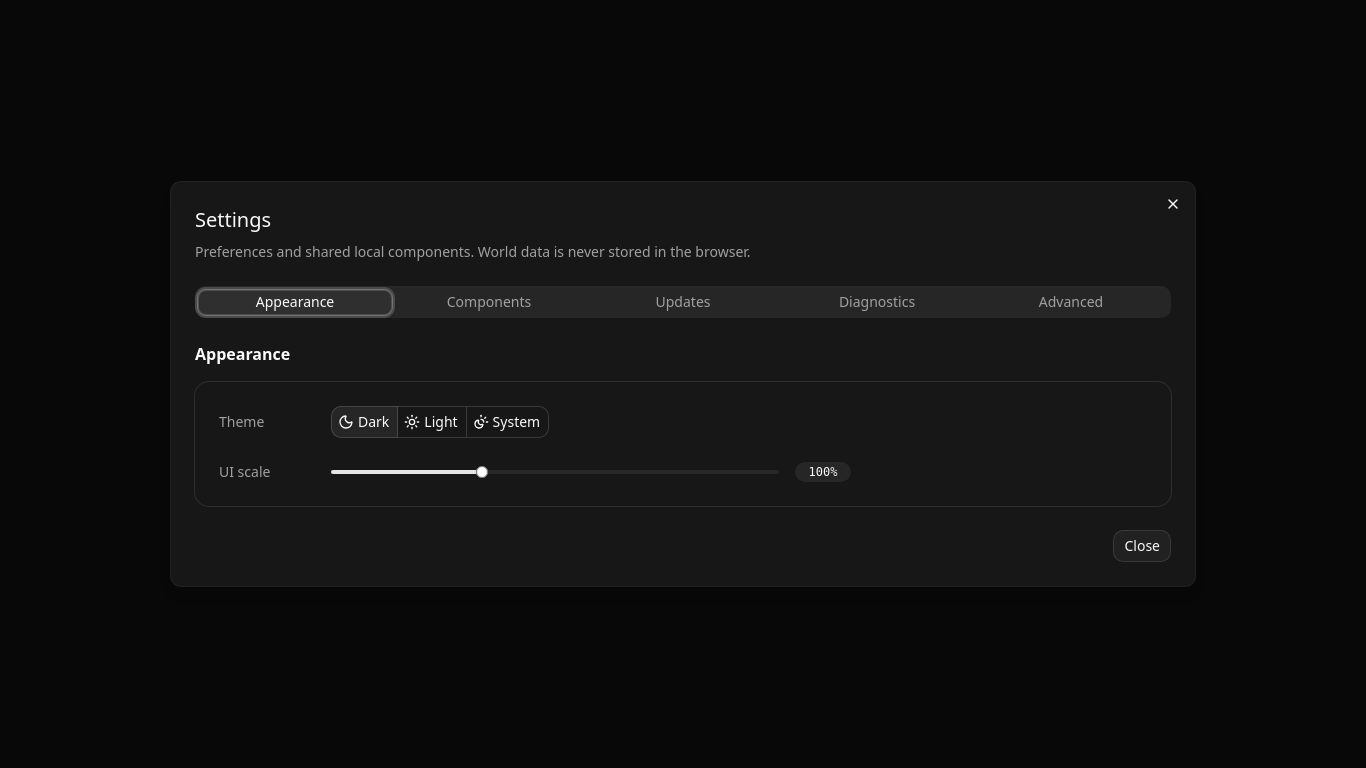
Test: settings dialog › splits settings into five sections and opens on appearance
Expected: the dialog is shown, top-left (171, 182), bottom-right (1195, 586)
Expected: the heading "Appearance" is shown, top-left (195, 343), bottom-right (290, 365)
Click the tab "Components" at {"x": 489, "y": 302}, box top-left (392, 290), bottom-right (586, 314)
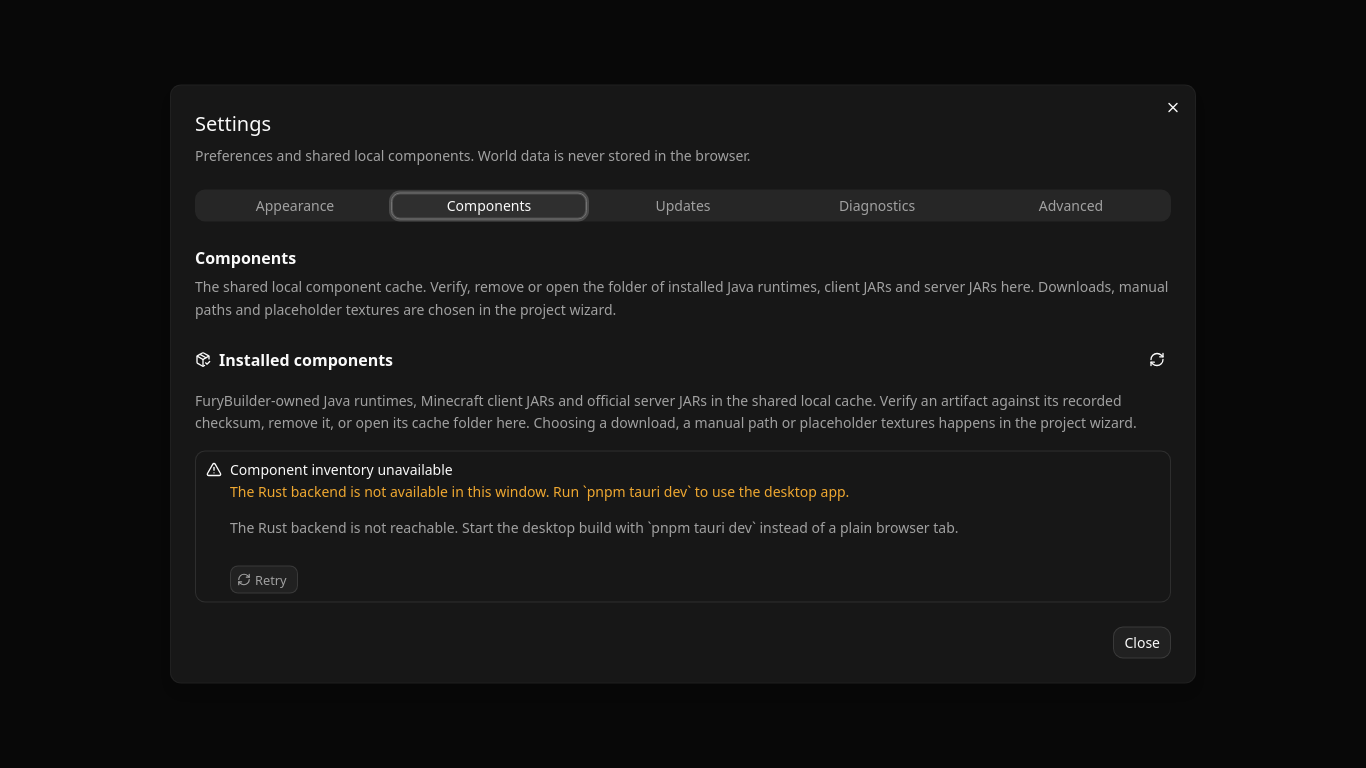
Expected: the heading "Components" is shown, top-left (195, 246), bottom-right (296, 268)
Expected: the heading "Installed components" is shown, top-left (195, 347), bottom-right (393, 371)
Click the tab "Updates" at {"x": 683, "y": 206}, box top-left (586, 193), bottom-right (780, 218)
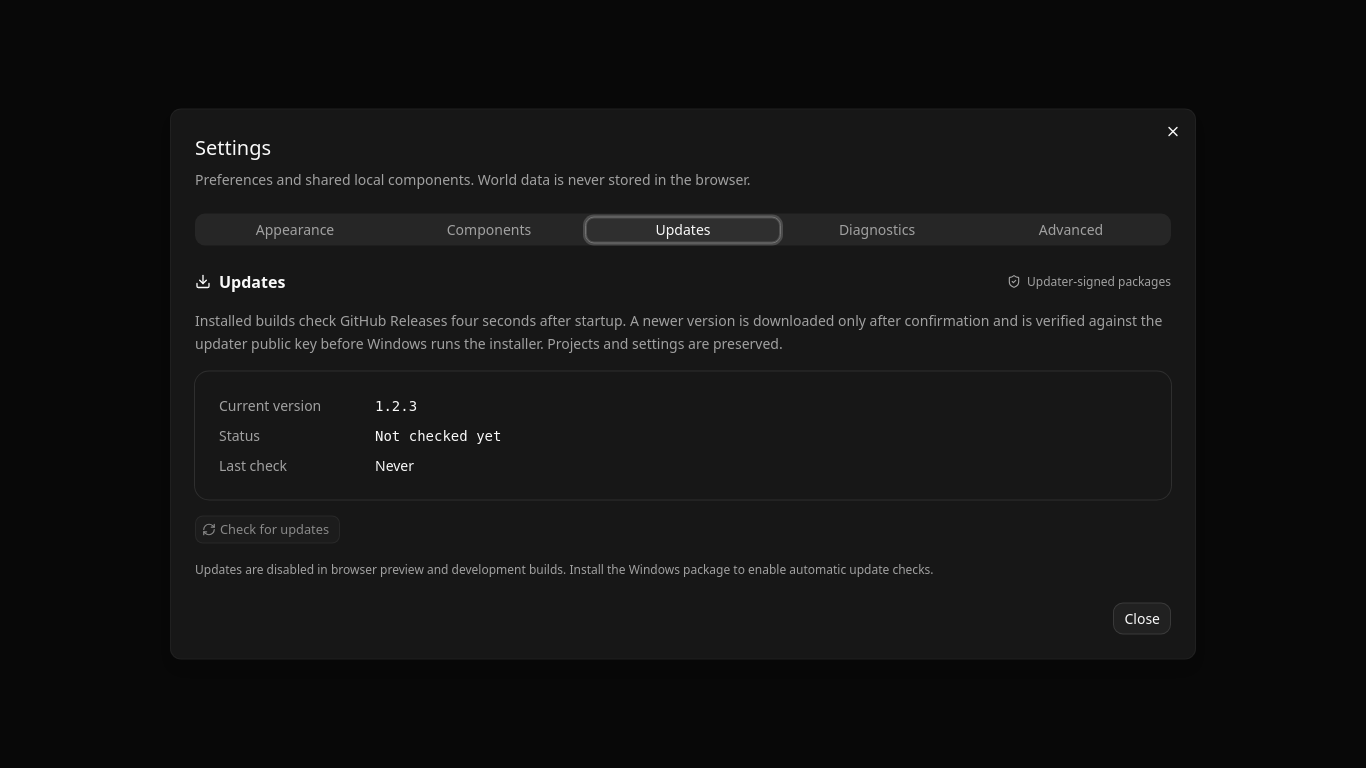
Expected: the heading "Updates" is shown, top-left (195, 270), bottom-right (285, 294)
Click the tab "Diagnostics" at {"x": 877, "y": 230}, box top-left (780, 217), bottom-right (974, 242)
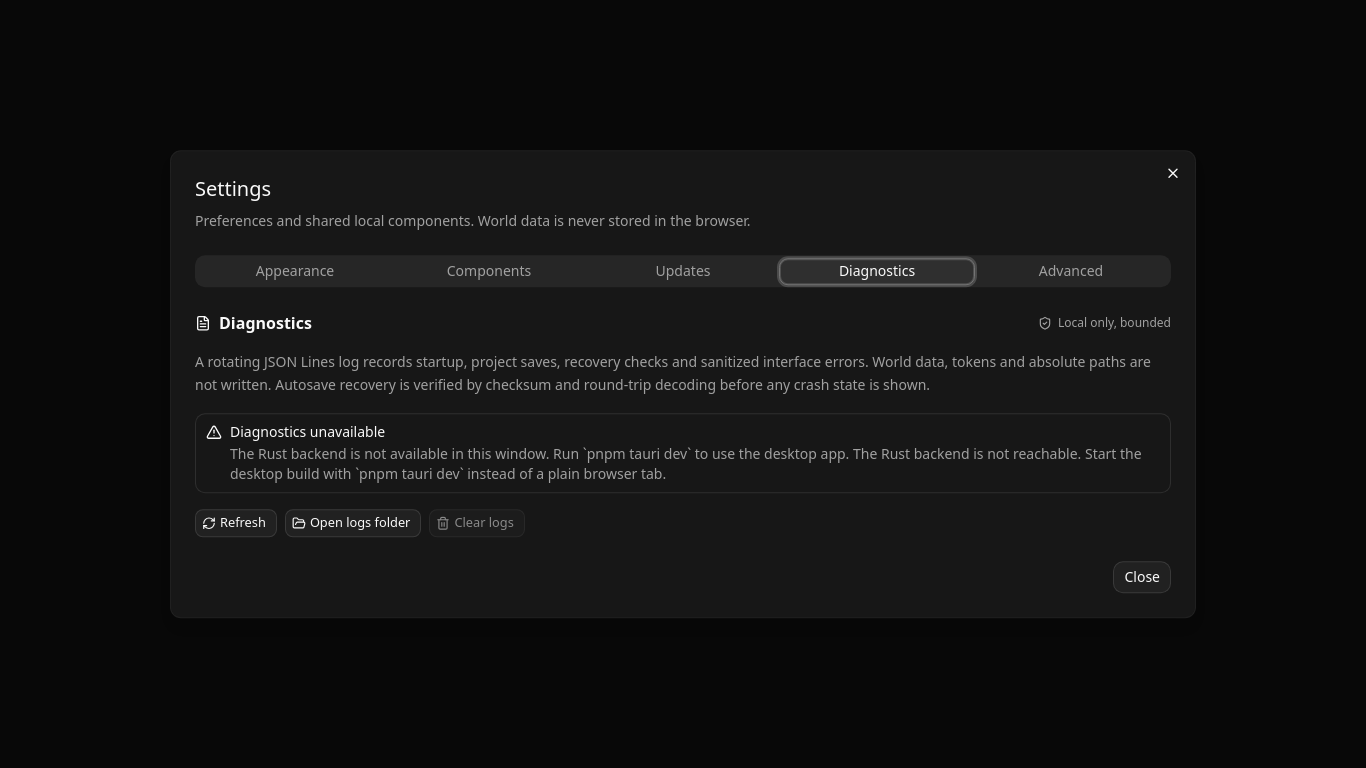
Expected: the heading "Diagnostics" is shown, top-left (195, 311), bottom-right (312, 335)
Click the tab "Advanced" at {"x": 1071, "y": 271}, box top-left (974, 259), bottom-right (1168, 284)
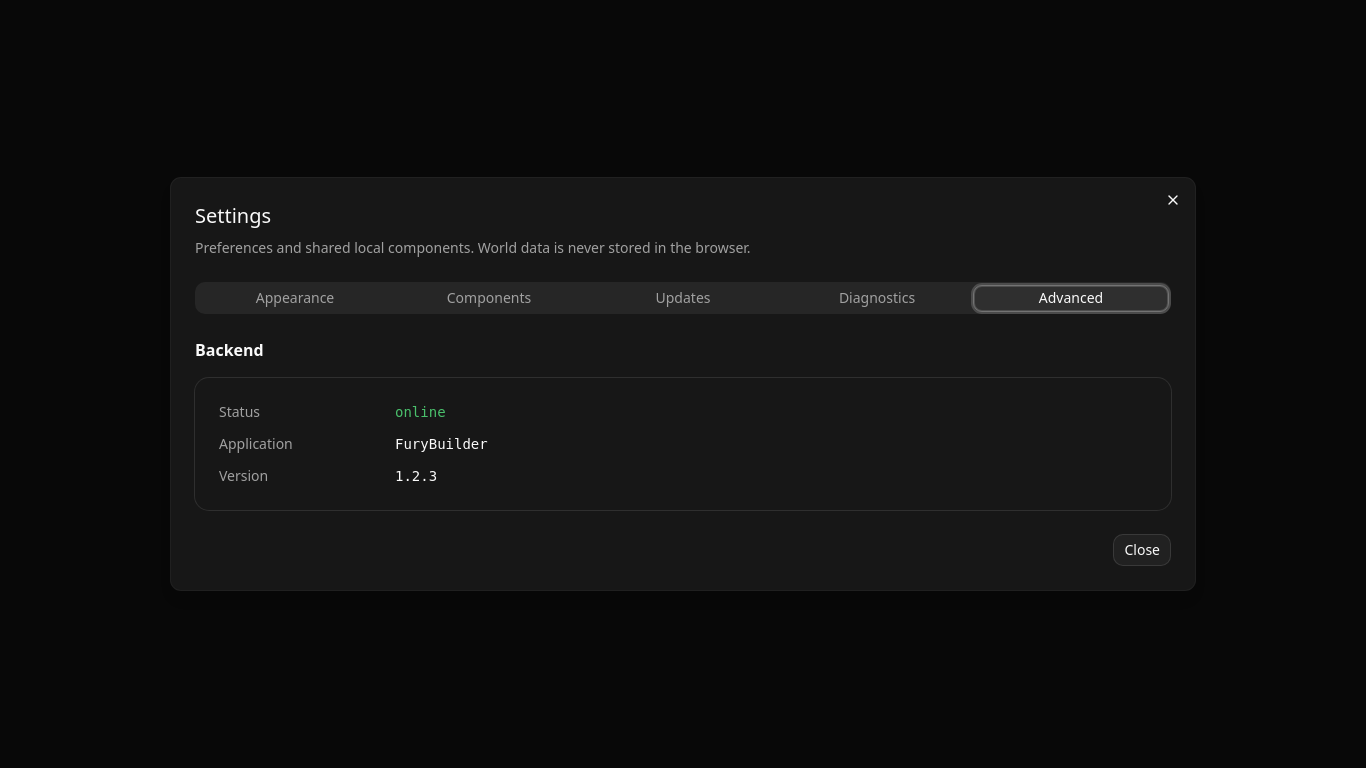
Expected: the heading "Backend" is shown, top-left (195, 339), bottom-right (264, 361)
Expected: the text "online" is shown, top-left (395, 404), bottom-right (446, 420)
Expected: the text "1.2.3" is shown, top-left (395, 468), bottom-right (437, 484)
